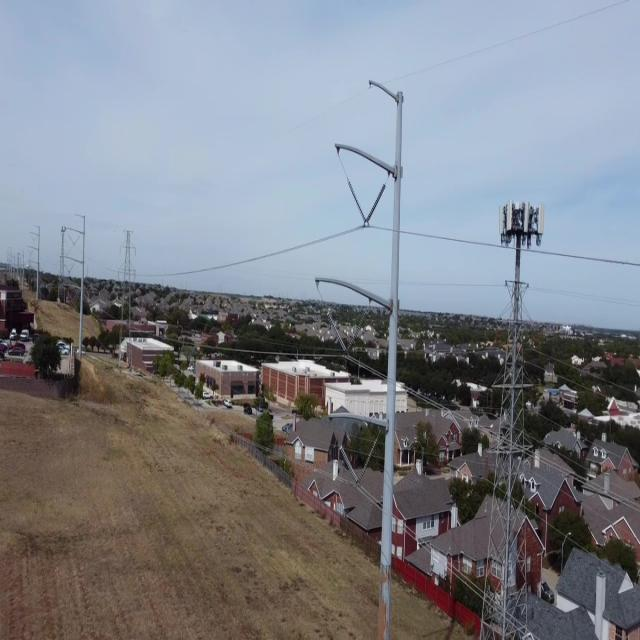杆塔: (474, 268, 538, 640), (116, 223, 136, 355), (54, 218, 69, 306)
正常绝缘子: (335, 300, 375, 377), (319, 297, 357, 367), (339, 162, 373, 237), (348, 428, 383, 500), (329, 426, 365, 495), (356, 174, 391, 239)
